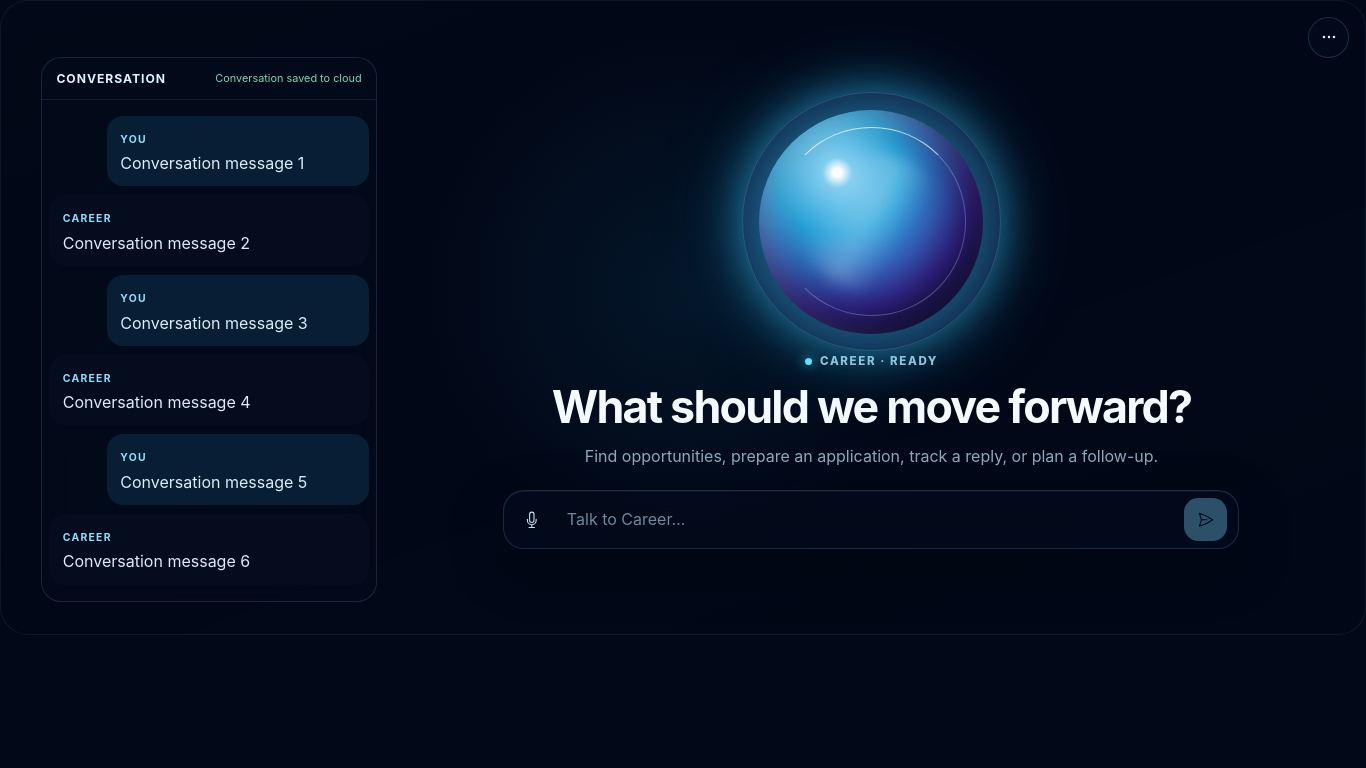
Test case: Agent Workspace conversation and voice › stops an active realtime session when the workspace unmounts
Check: the text "Conversation message 6" is shown, box [63,551,250,571]
Click the button named "Start voice conversation" at {"x": 532, "y": 520}, box [511,498,553,541]
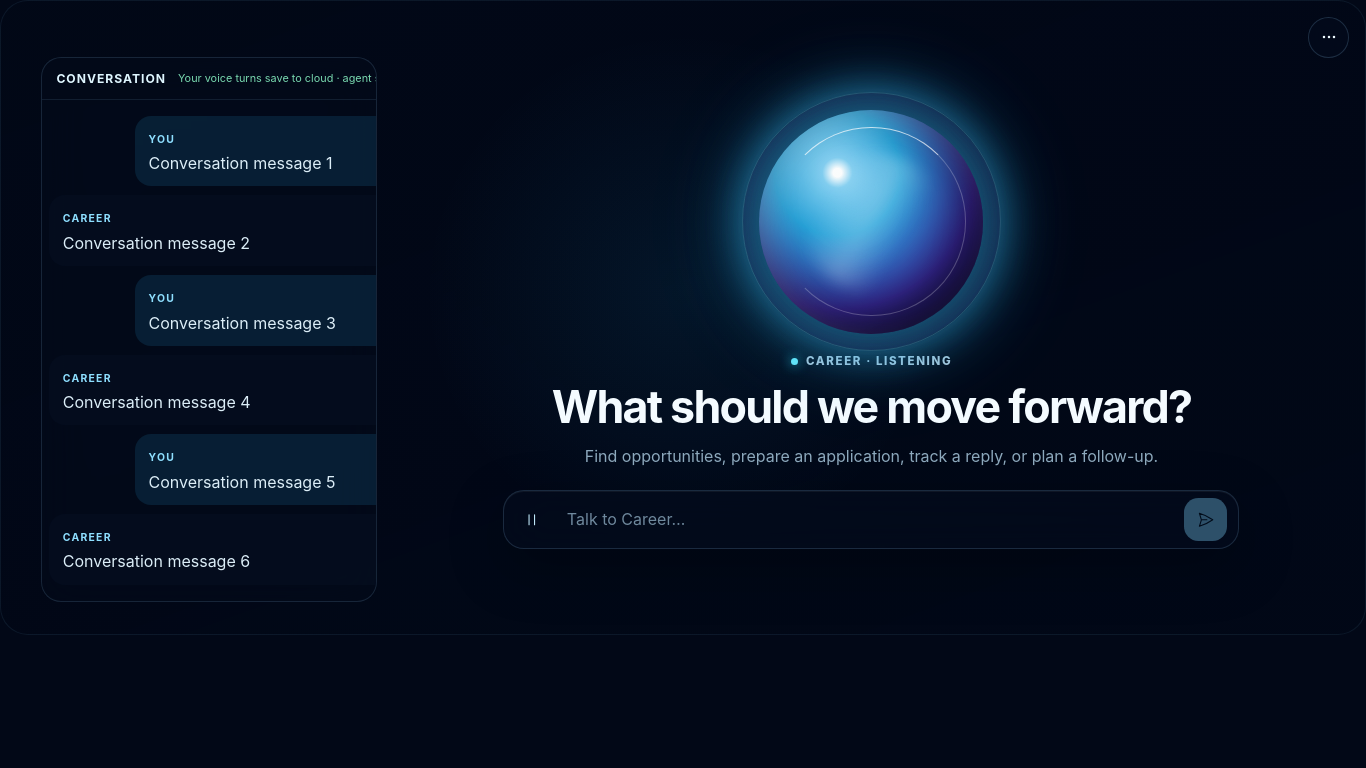
Check: the button named "End voice conversation" is shown, box [511,498,553,541]
